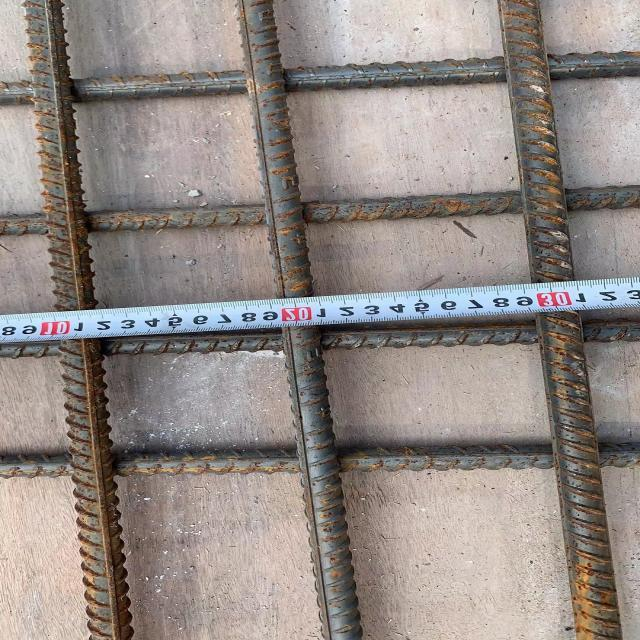ribbed bar: (496, 0, 627, 639), (237, 0, 365, 639), (23, 0, 136, 639), (1, 50, 640, 106), (2, 184, 640, 240), (3, 439, 633, 481), (1, 320, 640, 360)
